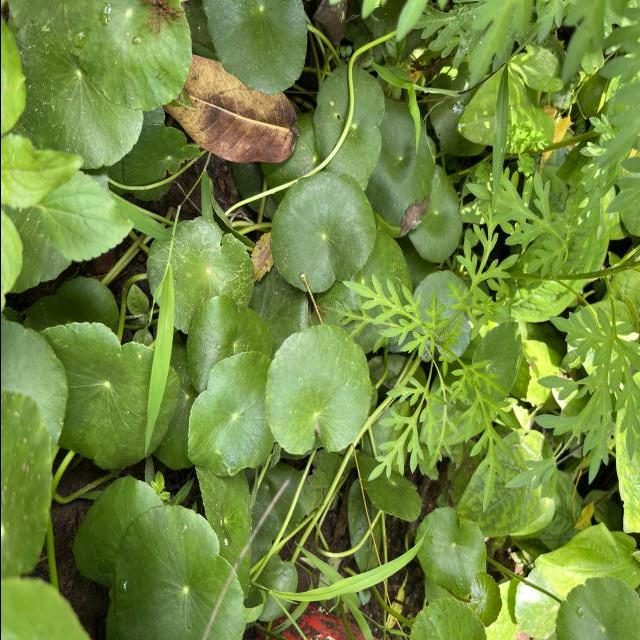Bacopa monnieri: (34, 319, 182, 472), (112, 502, 248, 640), (262, 322, 372, 456), (266, 170, 377, 296), (144, 214, 254, 336), (186, 350, 280, 478), (198, 0, 310, 98), (185, 293, 272, 395), (412, 506, 488, 596), (467, 569, 503, 630)
